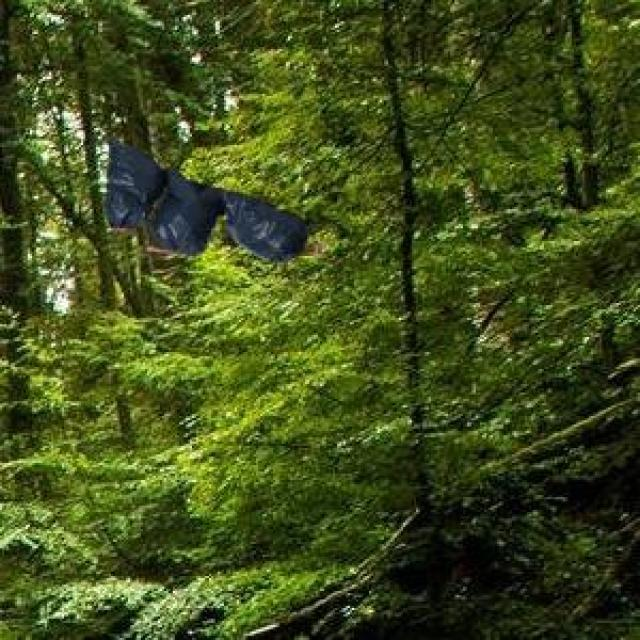Vinyl: (156, 175, 227, 261), (222, 196, 311, 264), (102, 146, 152, 232)
